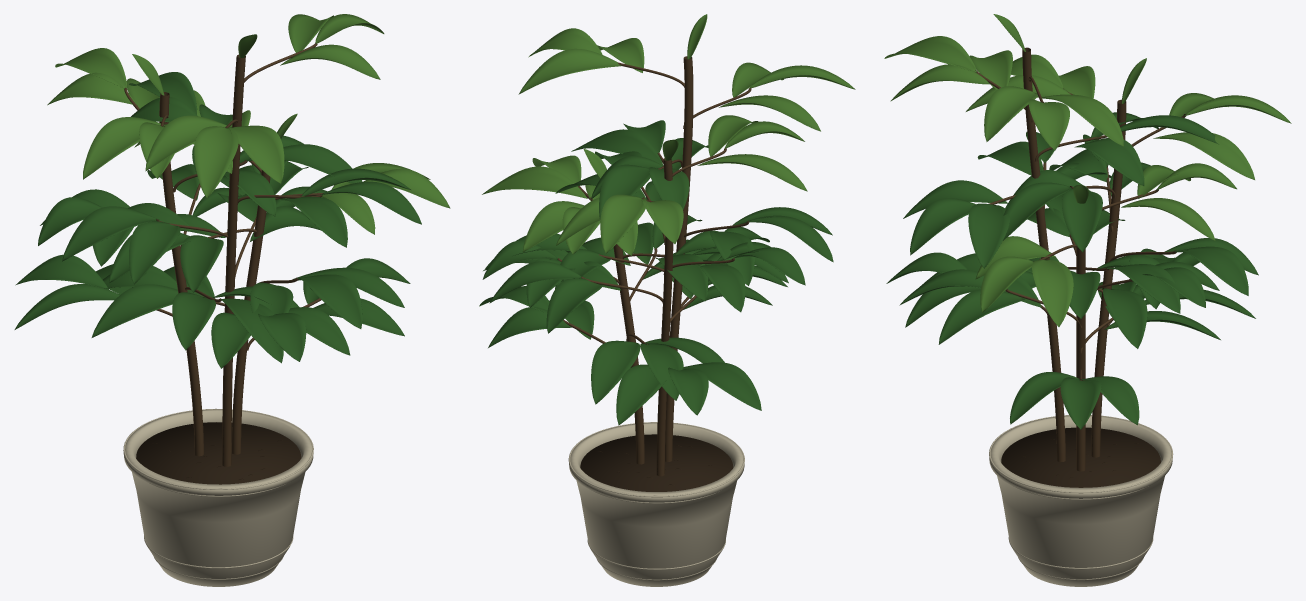
The model's file is Plant_Broadleaf.fbx.
3 views of the same model, side by side, from view 1: azimuth 30°, elevation 25°; view 2: azimuth 150°, elevation 25°; view 3: azimuth 270°, elevation 25° (orthographic). The views are drawn at different scales.
Parts seen in each view (by area): view 1: Glazed ceramic planter.003, Visible potting soil.003, Woody main stem.008, Woody main stem.007, Ficus oval leaf.122, Ficus oval leaf.113, Ficus oval leaf.067, Ficus oval leaf.112, Ficus oval leaf.102, Woody main stem.006, Ficus oval leaf.121, Ficus oval leaf.071 (+37 smaller); view 2: Glazed ceramic planter.003, Visible potting soil.003, Woody main stem.008, Ficus oval leaf.066, Woody main stem.007, Ficus oval leaf.124, Ficus oval leaf.101, Ficus oval leaf.084, Ficus oval leaf.079, Ficus oval leaf.085, Ficus oval leaf.091, Woody main stem.006 (+38 smaller); view 3: Glazed ceramic planter.003, Visible potting soil.003, Woody main stem.008, Woody main stem.007, Ficus oval leaf.079, Ficus oval leaf.115, Ficus oval leaf.072, Ficus oval leaf.097, Ficus oval leaf.116, Ficus oval leaf.123, Ficus oval leaf.070, Ficus oval leaf.098 (+37 smaller).
Boxes of the visible parts, left/top/right/bottom form: Glazed ceramic planter.003: left=123, top=409, right=313, bottom=586; Visible potting soil.003: left=136, top=422, right=301, bottom=484; Woody main stem.008: left=222, top=54, right=245, bottom=466; Woody main stem.007: left=159, top=92, right=203, bottom=456; Ficus oval leaf.122: left=194, top=126, right=238, bottom=198; Ficus oval leaf.113: left=62, top=206, right=158, bottom=261; Ficus oval leaf.067: left=91, top=284, right=178, bottom=337; Ficus oval leaf.112: left=129, top=221, right=180, bottom=284; Ficus oval leaf.102: left=83, top=117, right=164, bottom=179; Woody main stem.006: left=231, top=170, right=270, bottom=454; Ficus oval leaf.121: left=228, top=125, right=284, bottom=183; Ficus oval leaf.071: left=297, top=274, right=362, bottom=328; Glazed ceramic planter.003: left=568, top=422, right=744, bottom=586; Visible potting soil.003: left=580, top=434, right=733, bottom=491; Woody main stem.008: left=665, top=56, right=693, bottom=461; Ficus oval leaf.066: left=591, top=340, right=640, bottom=404; Woody main stem.007: left=656, top=158, right=673, bottom=476; Ficus oval leaf.124: left=518, top=48, right=621, bottom=94; Ficus oval leaf.101: left=600, top=194, right=647, bottom=253; Ficus oval leaf.084: left=616, top=364, right=666, bottom=425; Ficus oval leaf.079: left=482, top=166, right=587, bottom=198; Ficus oval leaf.085: left=683, top=362, right=761, bottom=410; Ficus oval leaf.091: left=546, top=278, right=602, bottom=333; Woody main stem.006: left=613, top=244, right=644, bottom=464; Glazed ceramic planter.003: left=989, top=415, right=1172, bottom=586; Visible potting soil.003: left=1001, top=427, right=1160, bottom=487; Woody main stem.008: left=1022, top=47, right=1065, bottom=462; Woody main stem.007: left=1091, top=99, right=1126, bottom=457; Ficus oval leaf.079: left=1032, top=259, right=1073, bottom=326; Ficus oval leaf.115: left=968, top=203, right=1009, bottom=268; Ficus oval leaf.072: left=1103, top=288, right=1147, bottom=348; Ficus oval leaf.097: left=1062, top=188, right=1102, bottom=252; Ficus oval leaf.116: left=910, top=198, right=975, bottom=255; Ficus oval leaf.123: left=984, top=86, right=1037, bottom=141; Ficus oval leaf.070: left=938, top=289, right=1024, bottom=344; Ficus oval leaf.098: left=1003, top=182, right=1071, bottom=240.
Size of the model in its own units: 0.9956 by 1.43 by 0.9696.
